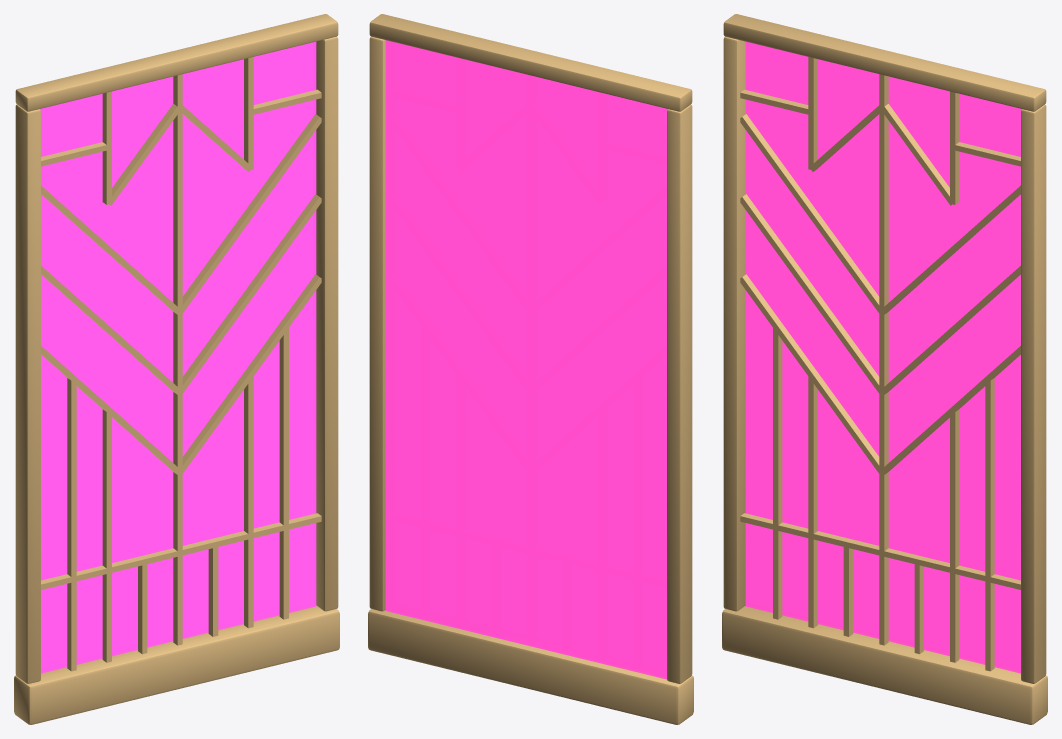
Rendered from KIT_Biombo_Trelica.glb.
The picture shows the model from 3 angles, left to right: view 1: azimuth 30°, elevation 25°; view 2: azimuth 150°, elevation 25°; view 3: azimuth 330°, elevation 25°; orthographic projection.
Parts seen in each view (by area): view 1: KIT_Biombo_Trelica; view 2: KIT_Biombo_Trelica; view 3: KIT_Biombo_Trelica.
Part boxes in pixels (bbox=[...]): KIT_Biombo_Trelica: bbox=[14, 14, 339, 724]; KIT_Biombo_Trelica: bbox=[368, 14, 693, 724]; KIT_Biombo_Trelica: bbox=[722, 14, 1047, 724].
Size of the model in its own units: 1.3 by 2.5 by 0.12.
